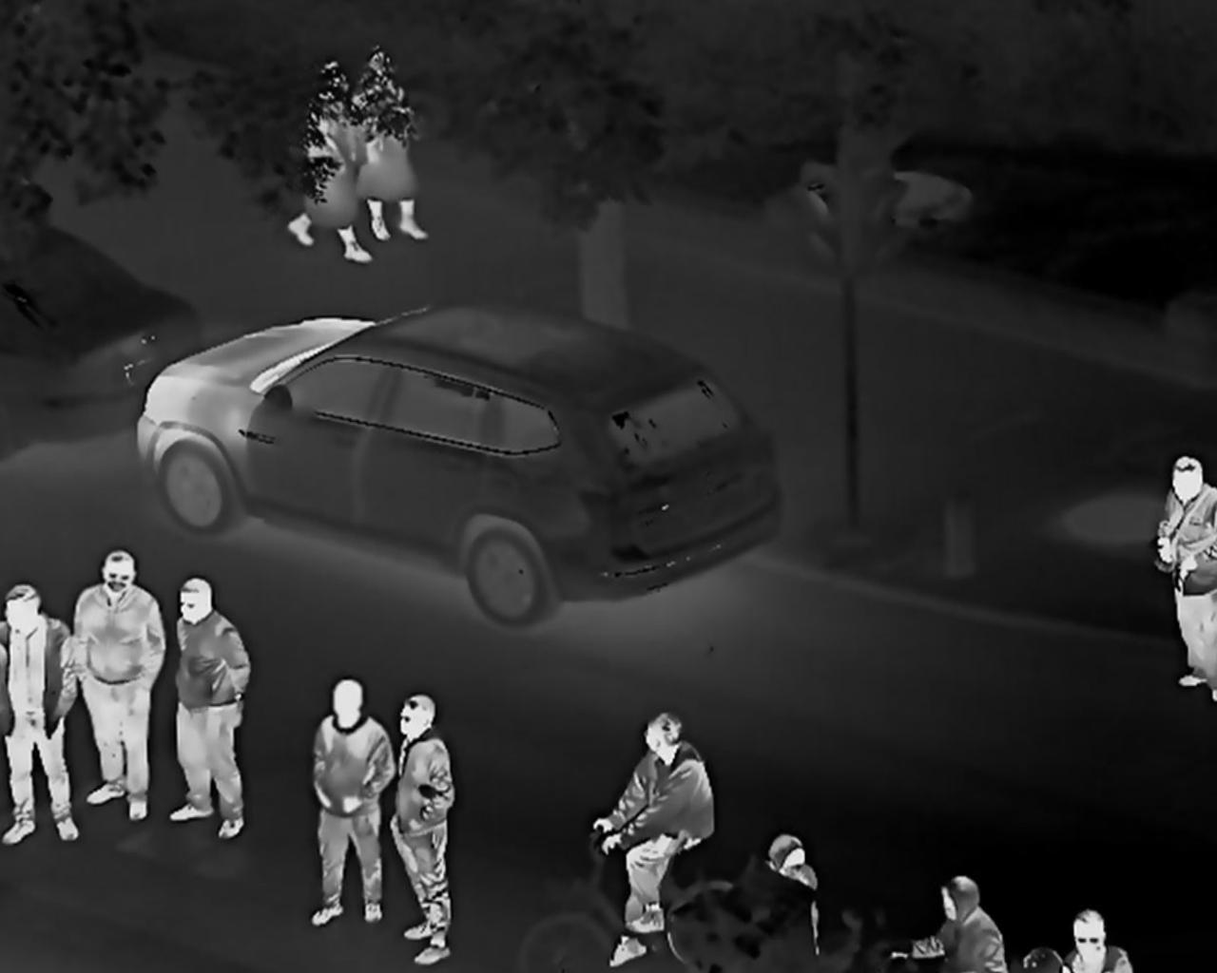person: (602, 694, 744, 966), (164, 568, 269, 855), (69, 540, 161, 834), (396, 654, 471, 957), (310, 680, 385, 923), (5, 588, 73, 839), (1155, 424, 1217, 679), (298, 66, 356, 286), (900, 860, 1008, 973), (357, 48, 409, 239), (1033, 887, 1118, 973), (763, 812, 821, 900)
